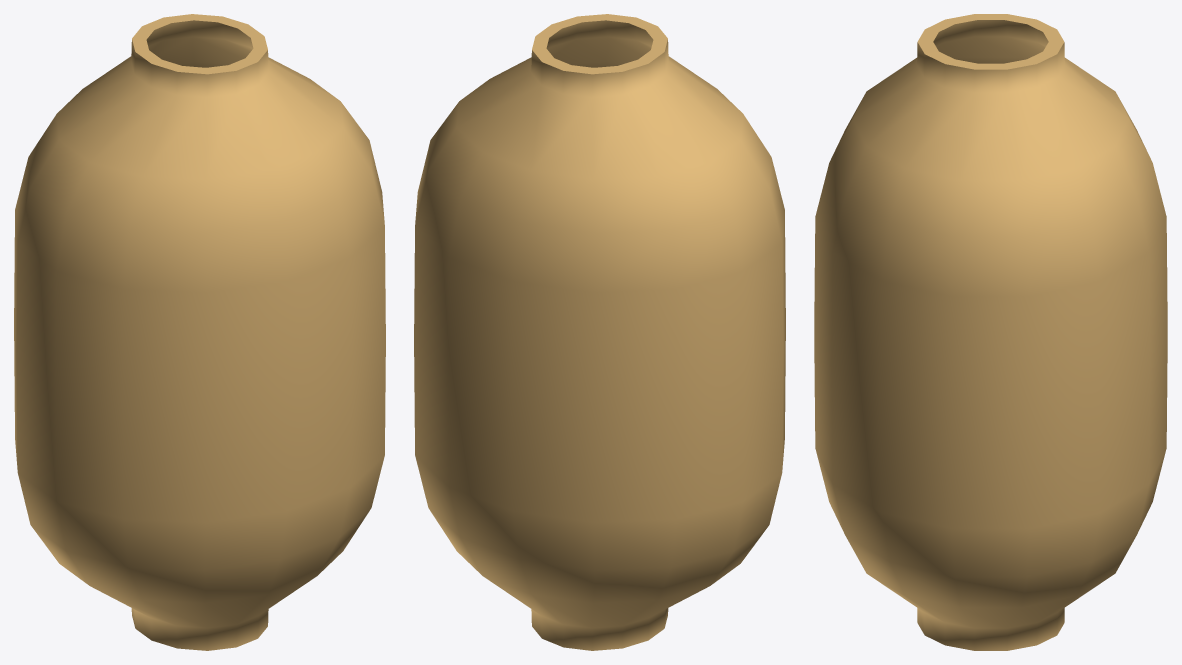
Rendered from lampara_castillo.fbx.
3 renders of one model, left to right at view 1: azimuth 30°, elevation 25°; view 2: azimuth 150°, elevation 25°; view 3: azimuth 270°, elevation 25°, orthographic.
Visible parts, largest first — view 1: polySurface1540; view 2: polySurface1540; view 3: polySurface1540.
Part boxes in pixels (box(x1,y1,x2,y2)): polySurface1540: box(14, 14, 385, 650); polySurface1540: box(414, 14, 785, 650); polySurface1540: box(814, 14, 1167, 650).
Size of the model in its own units: 3.66 by 6.17 by 3.4.
